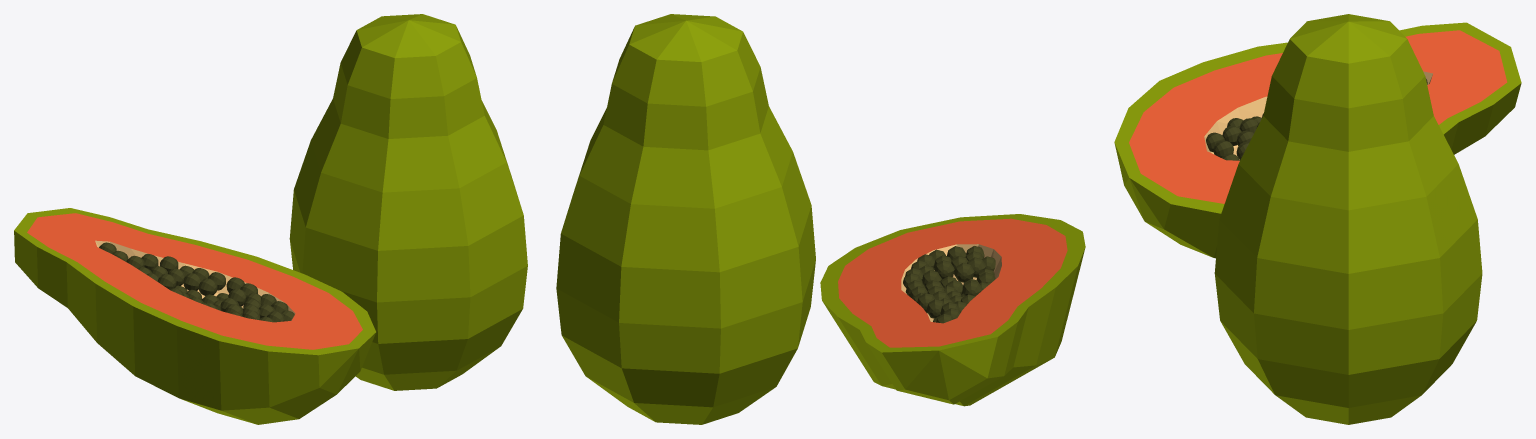
File: papaya.glb
3 views of the same model, side by side, from view 1: azimuth 30°, elevation 25°; view 2: azimuth 150°, elevation 25°; view 3: azimuth 270°, elevation 25° (orthographic). The views are drawn at different scales.
Parts seen in each view (by area): view 1: Object_5, Object_7, Object_4, Object_6; view 2: Object_5, Object_7, Object_4, Object_6; view 3: Object_5, Object_7, Object_4, Object_6.
Boxes of the visible parts, <box> form: Object_5: <box>14,14,527,424</box>; Object_7: <box>27,213,362,349</box>; Object_4: <box>99,242,294,322</box>; Object_6: <box>95,240,295,320</box>; Object_5: <box>556,14,1085,424</box>; Object_7: <box>838,218,1067,347</box>; Object_4: <box>903,246,995,323</box>; Object_6: <box>901,244,1001,321</box>; Object_5: <box>1114,14,1521,424</box>; Object_7: <box>1129,30,1507,203</box>; Object_4: <box>1206,79,1427,160</box>; Object_6: <box>1204,71,1432,160</box>.
Size of the model in its own units: 3.44 by 2.65 by 2.5.
